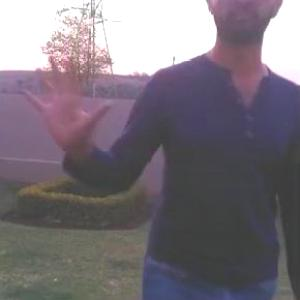follow_hand: (18, 49, 112, 151)
